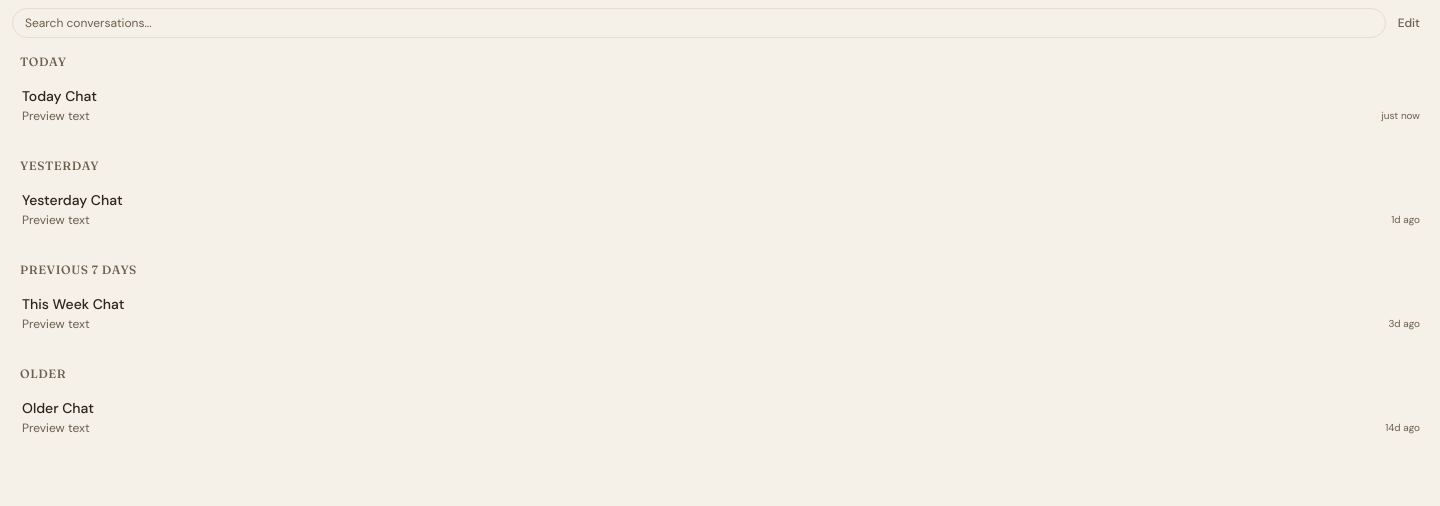
Test: ConversationList › BulkActionsBar › offers Select all the moment multi-select is armed, and it selects everything
The width and height of the screenshot is (1440, 506).
Click the button with aria-label "Select conversations" at {"x": 1409, "y": 23}, box left=1390, top=9, right=1428, bottom=37
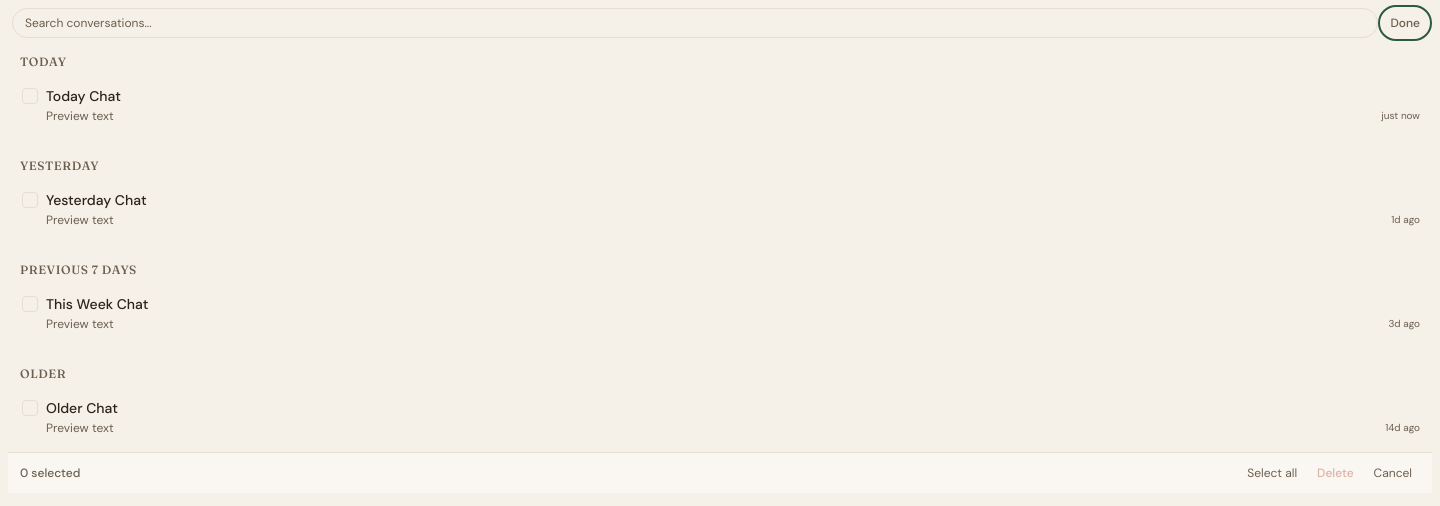
Expected: the text "0 selected" is shown, left=20, top=465, right=80, bottom=481
Expected: the button with aria-label "delete selected" is disabled, left=1309, top=461, right=1362, bottom=485
Click the button "Select all" at {"x": 1272, "y": 473}, box left=1239, top=461, right=1305, bottom=485
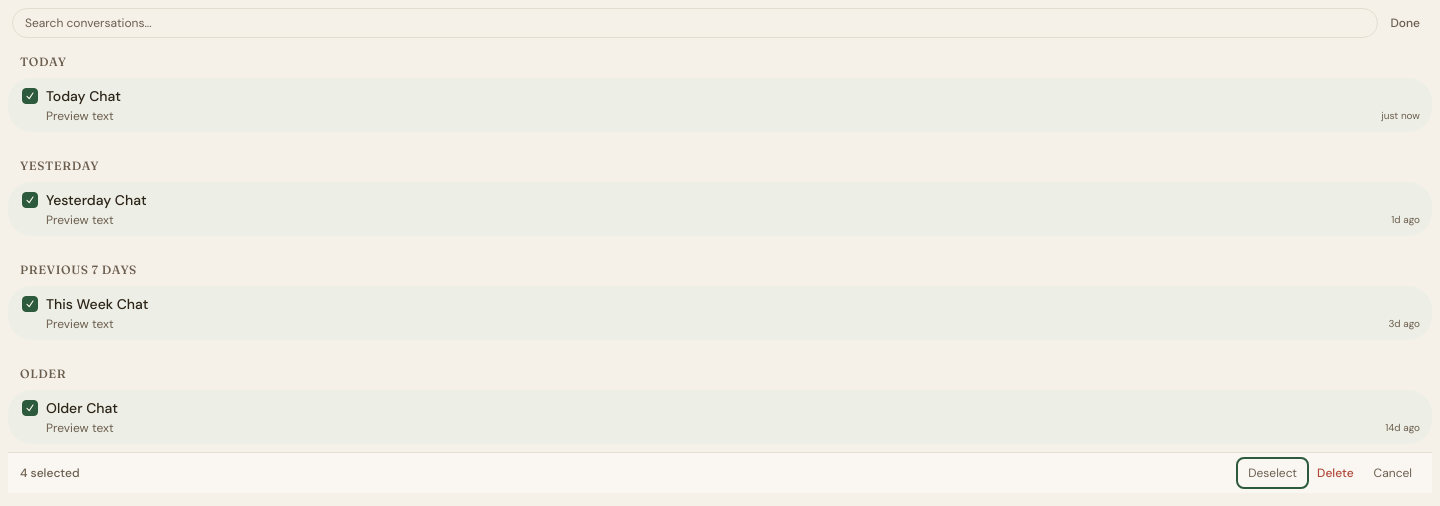
Expected: the text "4 selected" is shown, left=20, top=465, right=80, bottom=481
Expected: the button "Deselect" is shown, left=1240, top=461, right=1305, bottom=485
Expected: the button with aria-label "delete selected" is enabled, left=1309, top=461, right=1362, bottom=485
